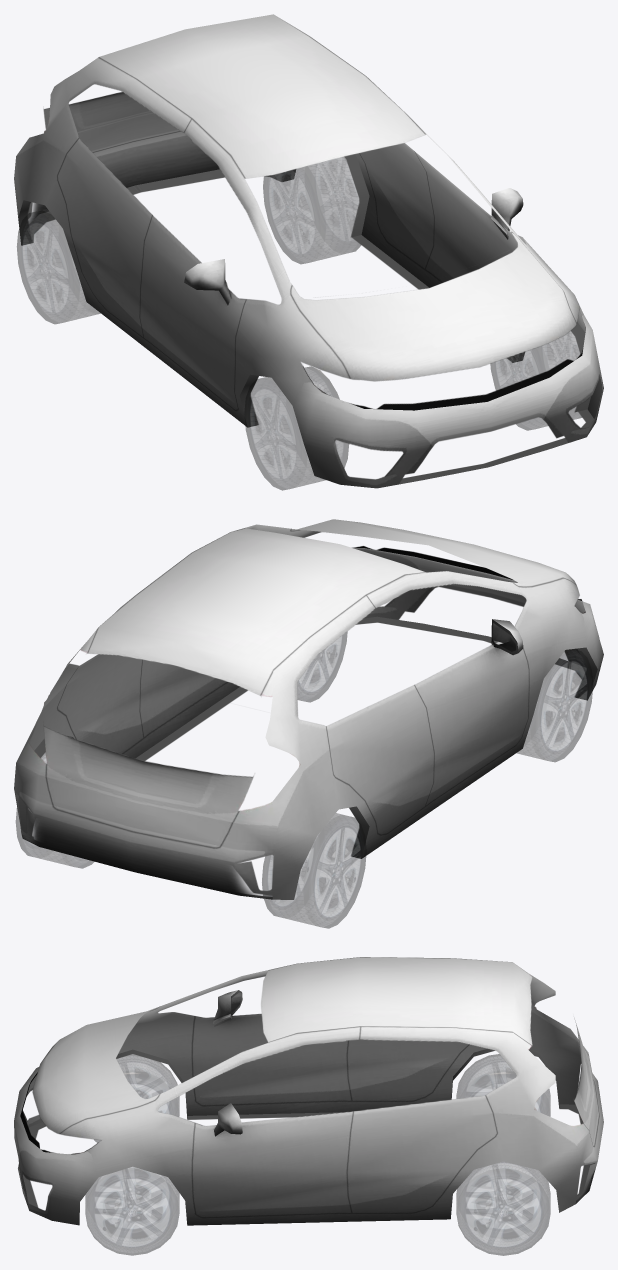
The model's file is hatchback.glb.
The picture shows the model from 3 angles, top to bottom: view 1: azimuth 30°, elevation 25°; view 2: azimuth 150°, elevation 25°; view 3: azimuth 270°, elevation 25°; orthographic projection. The views are drawn at different scales.
Visible parts, largest first — view 1: body, wheel_RL, wheel_FR, wheel_RR, wheel_FL; view 2: body, wheel_RR, wheel_FR, wheel_FL, wheel_RL; view 3: body, wheel_RL, wheel_FL, wheel_RR, wheel_FR.
Boxes of the visible parts, box(x1,y1,x2,y2) form: body: box(14, 14, 603, 488); wheel_RL: box(263, 157, 360, 263); wheel_FR: box(244, 366, 348, 490); wheel_RR: box(17, 209, 100, 323); wheel_FL: box(490, 331, 581, 430); body: box(14, 519, 603, 899); wheel_RR: box(262, 813, 366, 928); wheel_FR: box(517, 649, 592, 761); wheel_FL: box(297, 631, 347, 702); wheel_RL: box(16, 752, 93, 868); body: box(14, 957, 603, 1225); wheel_RL: box(456, 1162, 550, 1255); wheel_FL: box(85, 1167, 179, 1255); wheel_RR: box(456, 1054, 550, 1116); wheel_FR: box(94, 1054, 179, 1142).
Bounding box in the file's own units: 2.14 × 1.57 × 4.
Materials: 2 (2 with a texture image).
